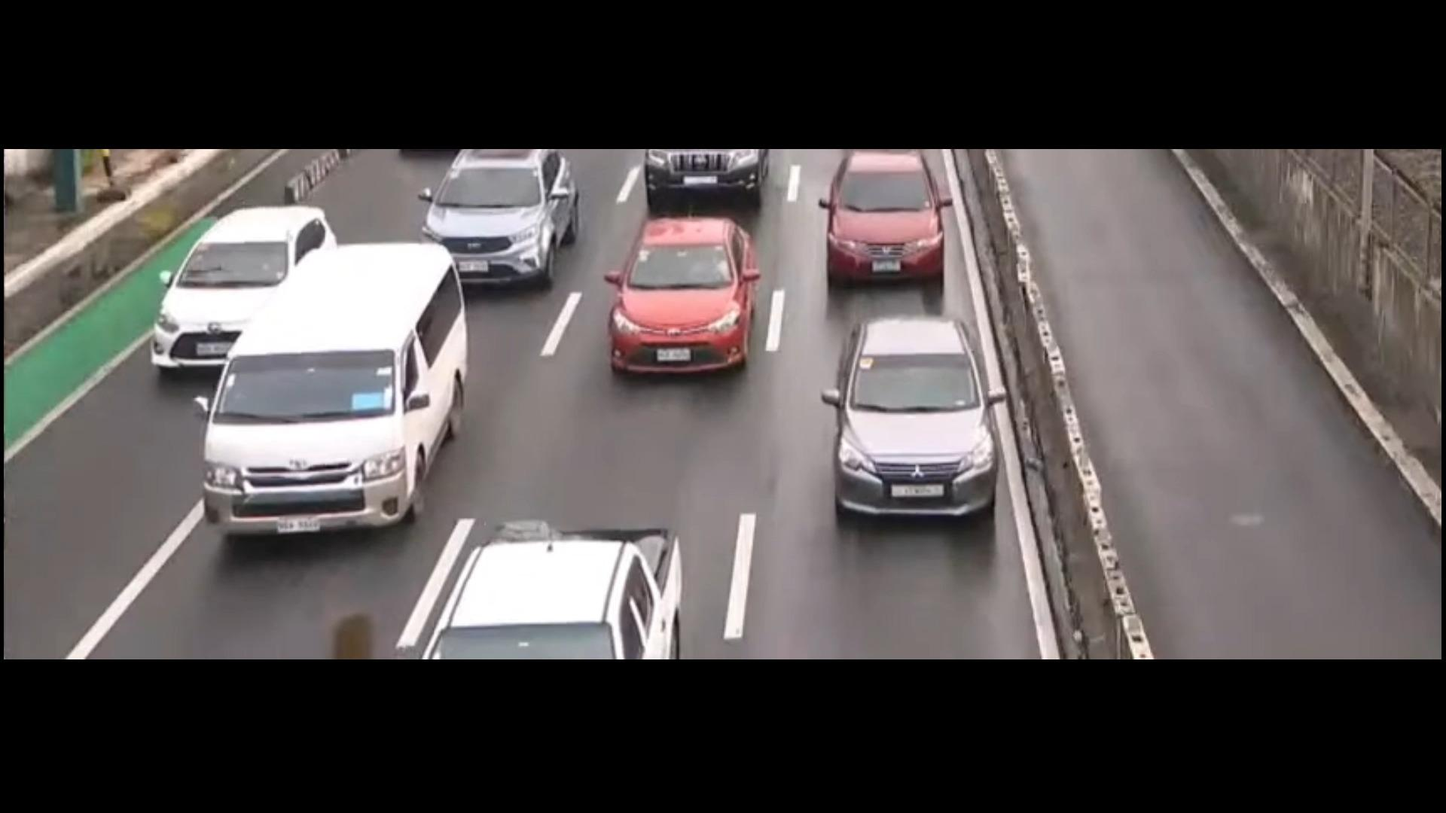Pickup: (423, 503, 706, 667)
SUV: (412, 136, 584, 312), (816, 142, 971, 297)
Sedan: (805, 300, 1019, 554), (113, 194, 341, 387), (578, 207, 782, 389)
Van: (192, 232, 492, 539)
